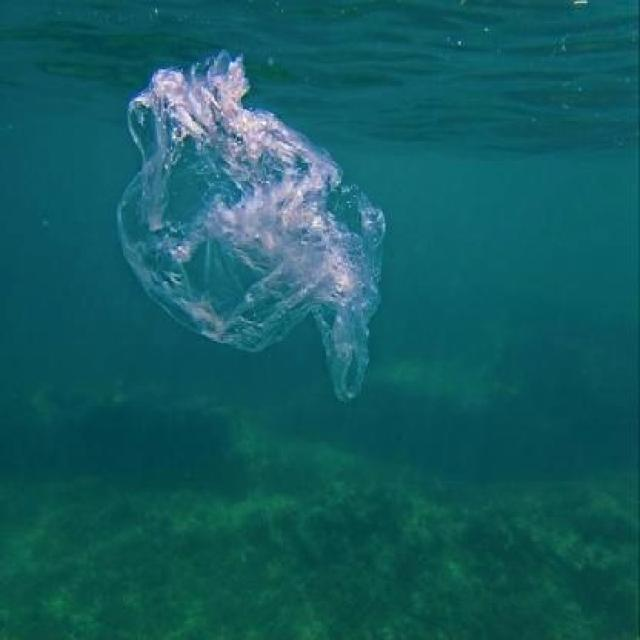pbag: (115, 48, 387, 403)
